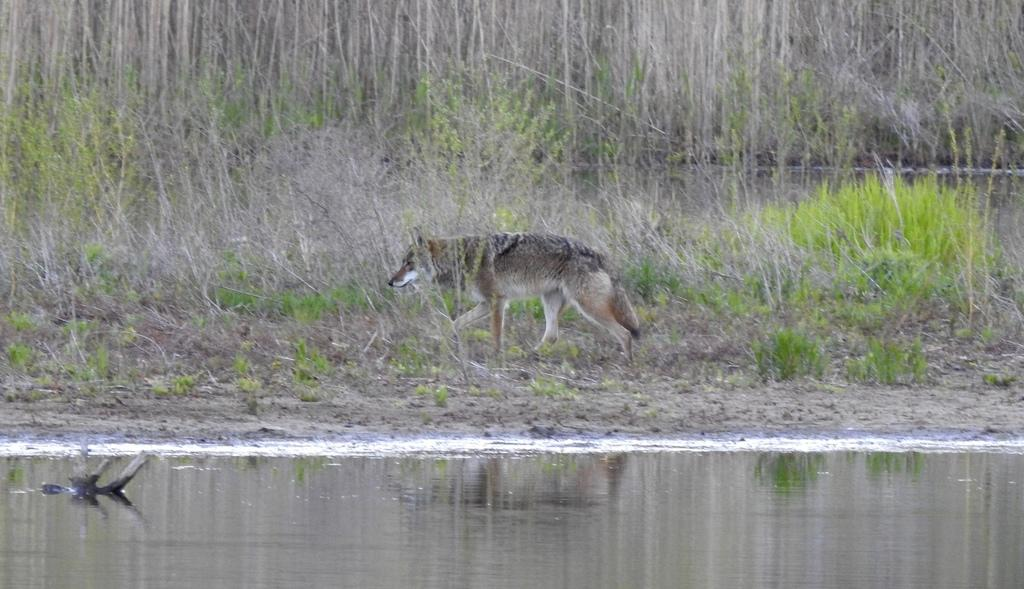Coyote: (389, 223, 647, 370)
